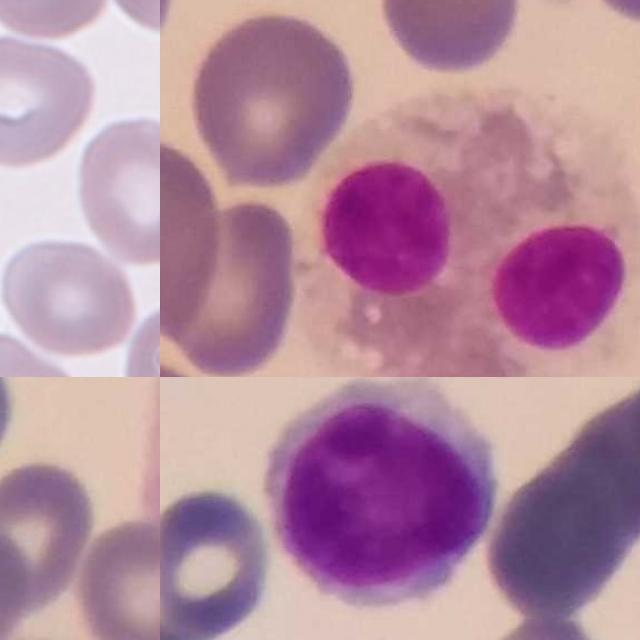Eosinophil: (315, 89, 640, 377)
Lymphocyte: (259, 377, 496, 609)
RBC: (0, 235, 139, 359), (69, 107, 160, 270), (0, 32, 99, 171), (0, 0, 108, 41), (119, 290, 160, 377), (101, 0, 160, 41)
